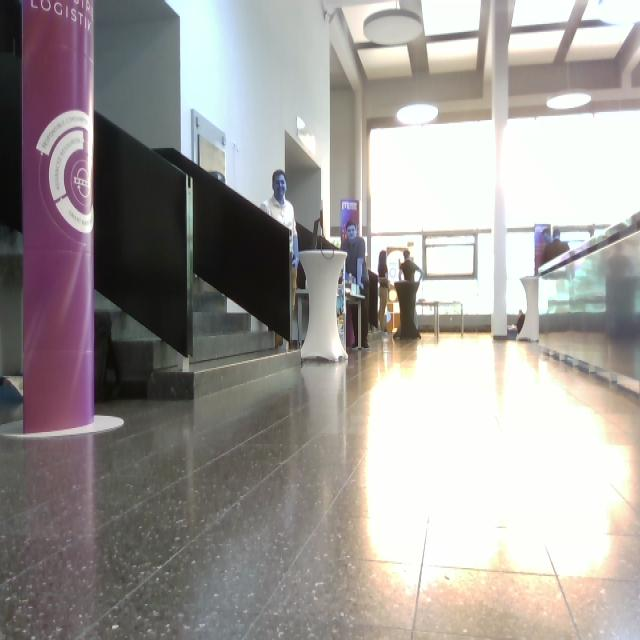door: (188, 109, 281, 362)
light bulb: (396, 65, 439, 126), (363, 4, 424, 46), (546, 63, 592, 111), (597, 1, 640, 26), (397, 104, 439, 126), (546, 92, 592, 110)
person: (260, 171, 300, 351), (341, 220, 371, 350)
pillar: (21, 1, 96, 433), (491, 1, 514, 338)
table: (295, 246, 352, 369)
tiled floor: (1, 328, 640, 638)
window: (424, 233, 477, 280)
